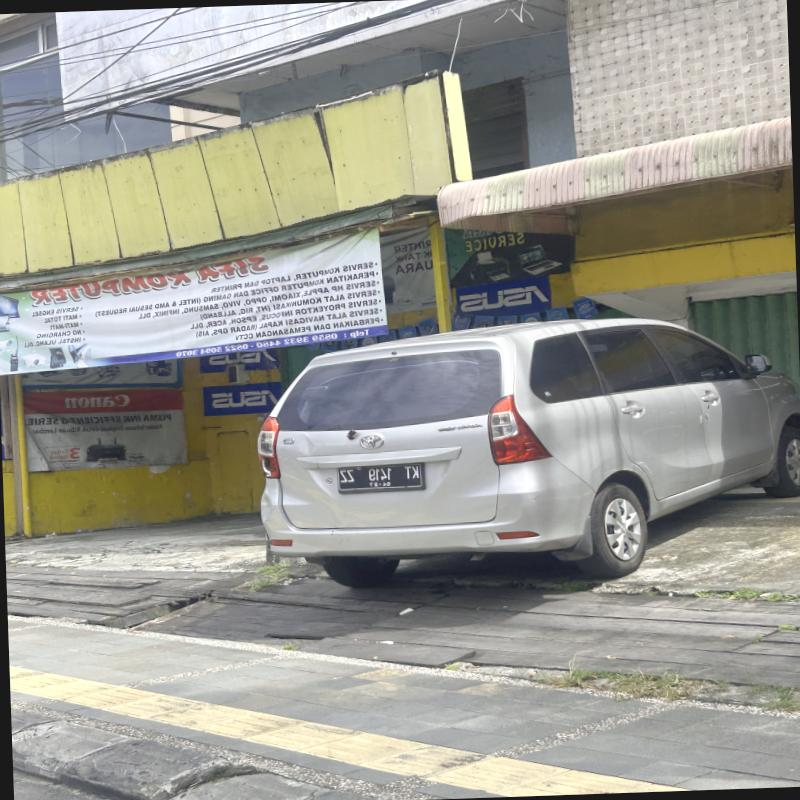license plate on a car: (338, 462, 423, 492)
